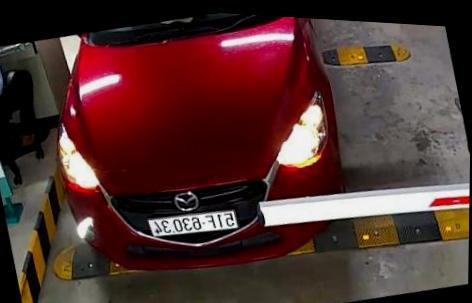License_Plate: (136, 198, 245, 255)
